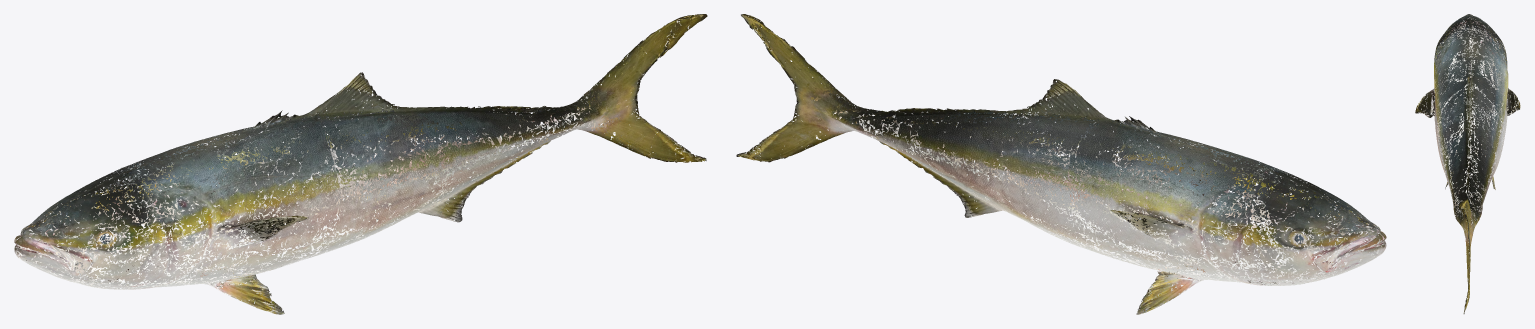
The model's file is yellowtail.glb.
3 renders of one model, left to right at view 1: azimuth 30°, elevation 25°; view 2: azimuth 150°, elevation 25°; view 3: azimuth 270°, elevation 25°, orthographic. The views are drawn at different scales.
Parts seen in each view (by area): view 1: Object_6, Object_12, Object_18; view 2: Object_6, Object_18, Object_12; view 3: Object_6, Object_18, Object_12.
Boxes of the visible parts, x1=… form: Object_6: x1=14, y1=14, x2=707, y2=307; Object_12: x1=14, y1=14, x2=706, y2=314; Object_18: x1=14, y1=14, x2=704, y2=314; Object_6: x1=739, y1=15, x2=1386, y2=312; Object_18: x1=741, y1=14, x2=1386, y2=313; Object_12: x1=736, y1=14, x2=1386, y2=314; Object_6: x1=1415, y1=14, x2=1520, y2=313; Object_18: x1=1416, y1=16, x2=1520, y2=309; Object_12: x1=1416, y1=14, x2=1520, y2=313.
Size of the model in its own units: 23.26 by 6.79 by 4.35.
Materials: 3 (3 with a texture image).
